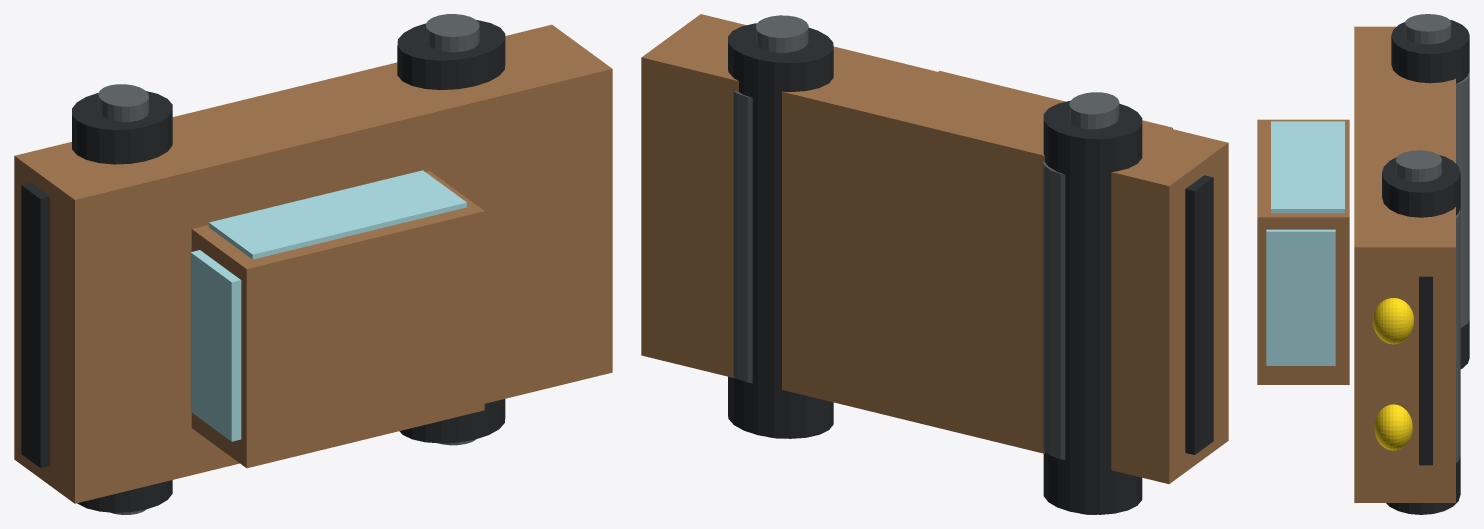
The model's file is tinker.obj.
3 views of the same model, side by side, from view 1: azimuth 30°, elevation 25°; view 2: azimuth 150°, elevation 25°; view 3: azimuth 270°, elevation 25° (orthographic). The views are drawn at different scales.
Parts seen in each view (by area): view 1: group_0_11107152, group_0_2829873, group_0_11593967, group_0_6383466; view 2: group_0_11107152, group_0_2829873, group_0_6383466; view 3: group_0_11107152, group_0_11593967, group_0_2829873, group_0_6383466, group_0_16768282.
Boxes of the visible parts, x1=… form: group_0_11107152: x1=14, y1=24, x2=612, y2=503; group_0_2829873: x1=21, y1=20, x2=505, y2=512; group_0_11593967: x1=190, y1=170, x2=466, y2=441; group_0_6383466: x1=98, y1=14, x2=479, y2=514; group_0_11107152: x1=641, y1=14, x2=1228, y2=483; group_0_2829873: x1=728, y1=23, x2=1213, y2=514; group_0_6383466: x1=733, y1=15, x2=1119, y2=514; group_0_11107152: x1=1257, y1=26, x2=1455, y2=502; group_0_11593967: x1=1266, y1=121, x2=1344, y2=365; group_0_2829873: x1=1382, y1=20, x2=1469, y2=514; group_0_6383466: x1=1396, y1=14, x2=1469, y2=462; group_0_16768282: x1=1373, y1=298, x2=1413, y2=450.
Size of the model in its own units: 119 by 83 by 46.
